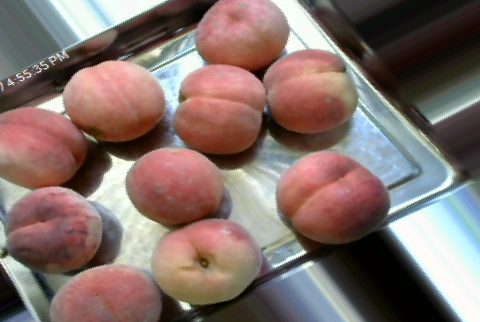Peach: (275, 150, 391, 244), (152, 218, 262, 305), (171, 63, 267, 157), (63, 58, 167, 143), (2, 186, 104, 271), (260, 48, 357, 134), (126, 147, 224, 225), (192, 0, 291, 70), (1, 107, 86, 187), (48, 262, 160, 322)
